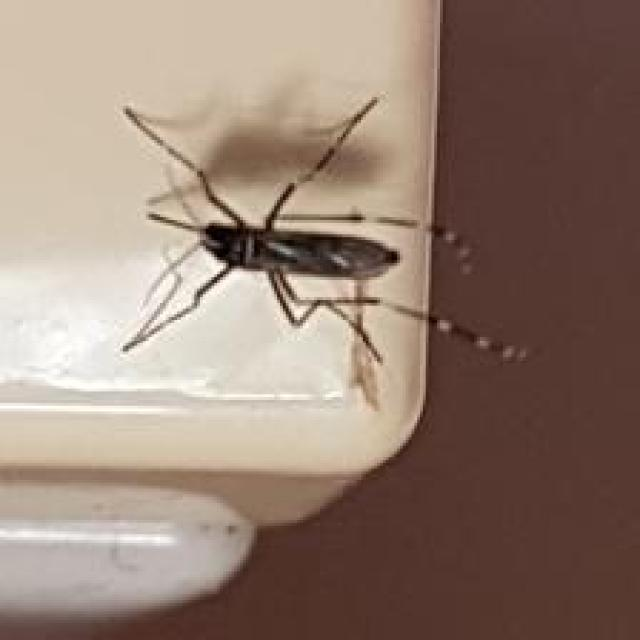Aedes albopictus: (117, 92, 532, 408)
